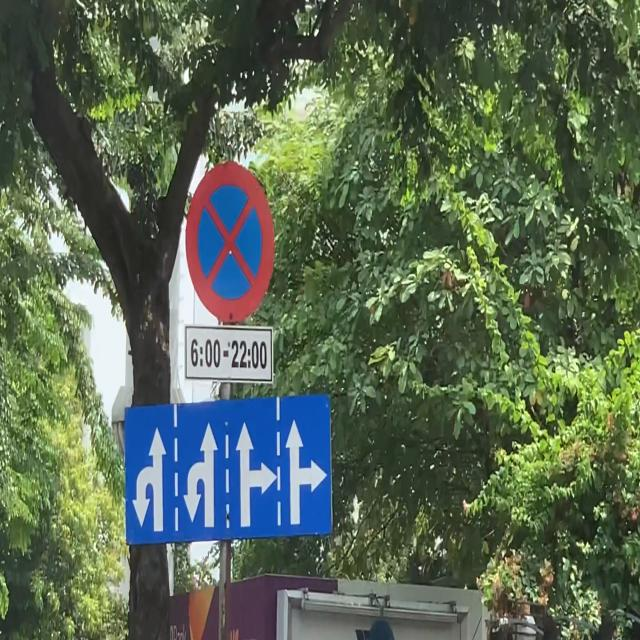Cam dung va do: (185, 160, 275, 323)
